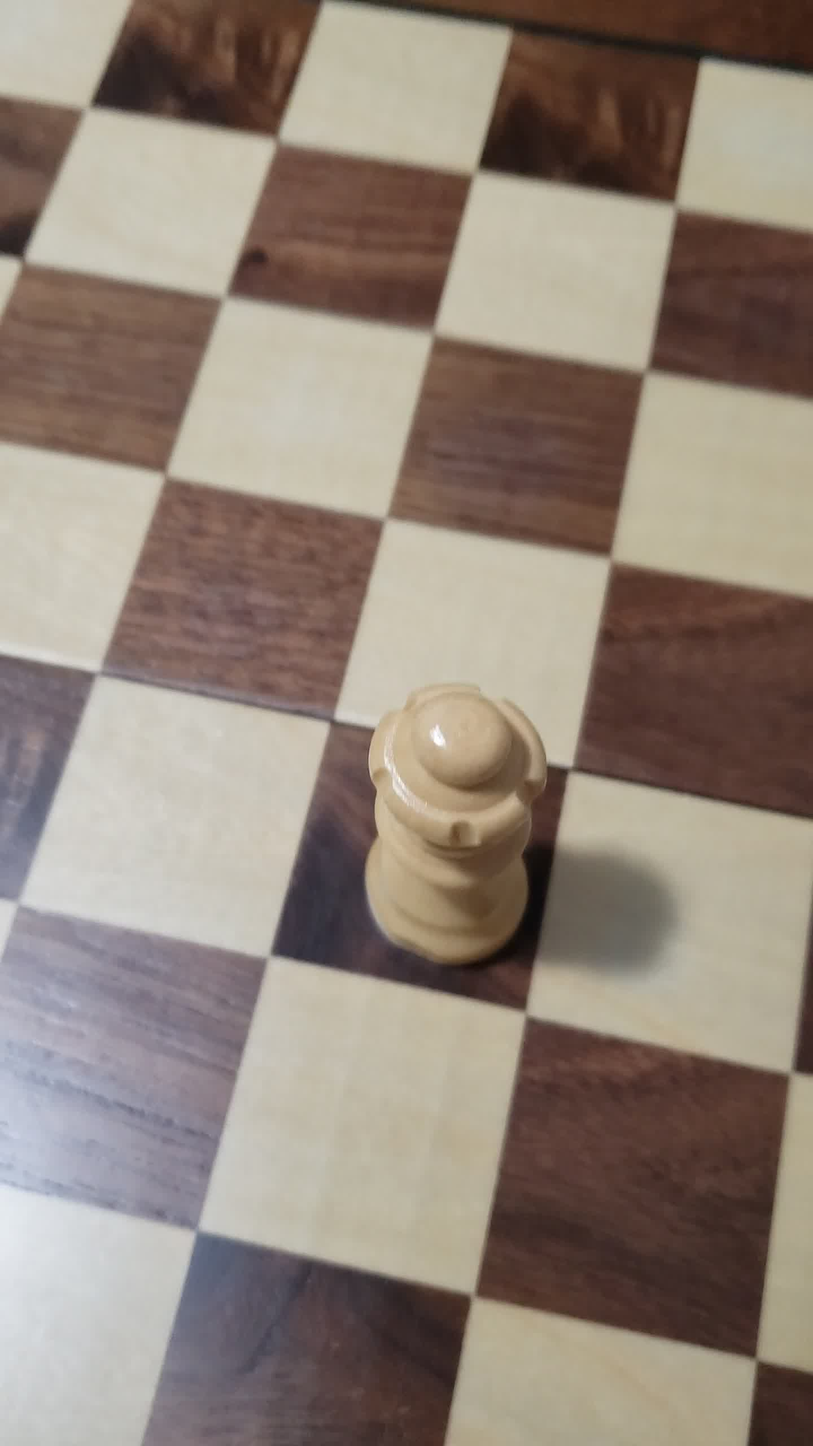white-queen: (344, 667, 564, 1001)
